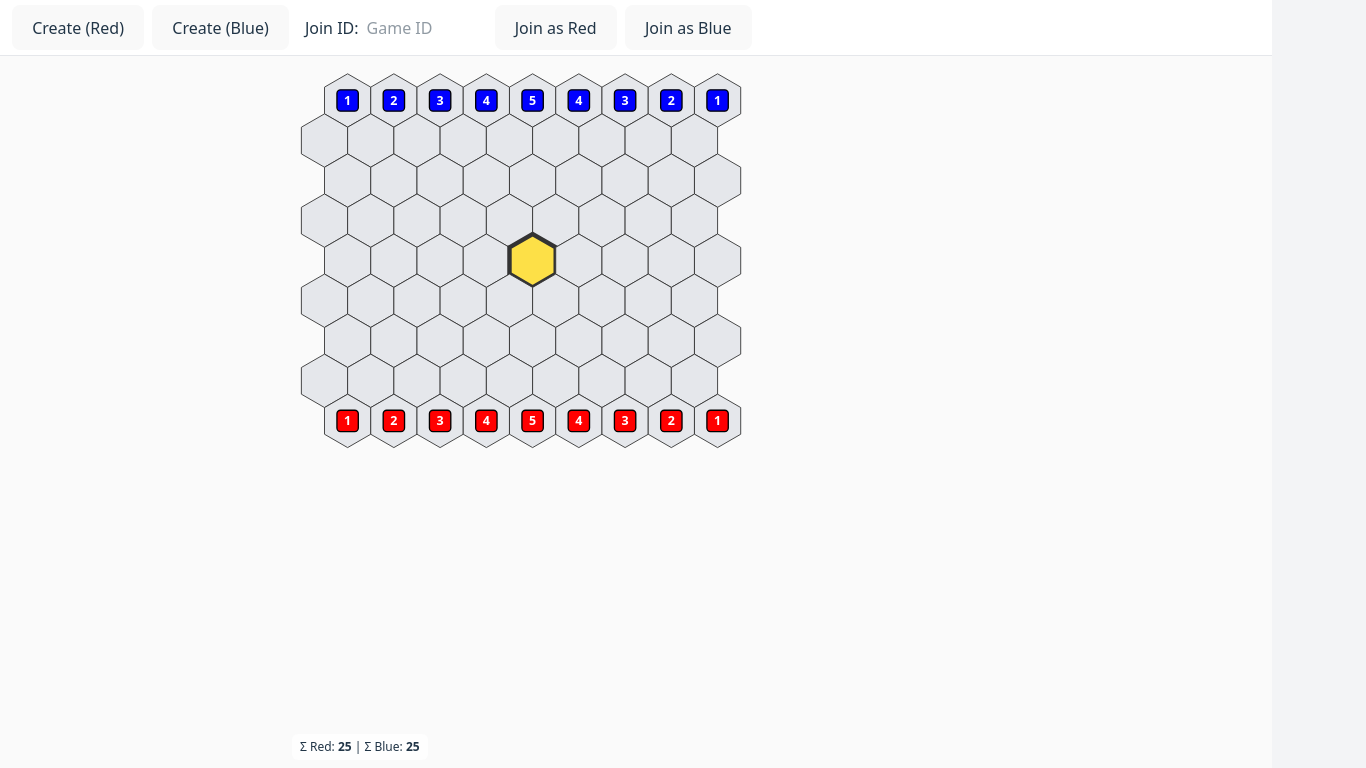
Test: LeftPanelAbsorb visibility (online) › захисник БАЧИТЬ панель розподілу (slot === absorb.defender)
The width and height of the screenshot is (1366, 768).
"Стати" BLUE (він же defender у нашій симуляції)
What coordinates should you click on to do the following:
click the button "Create (Blue)"
I would click on:
 (221, 28)
Its box is [152,5,289,50].
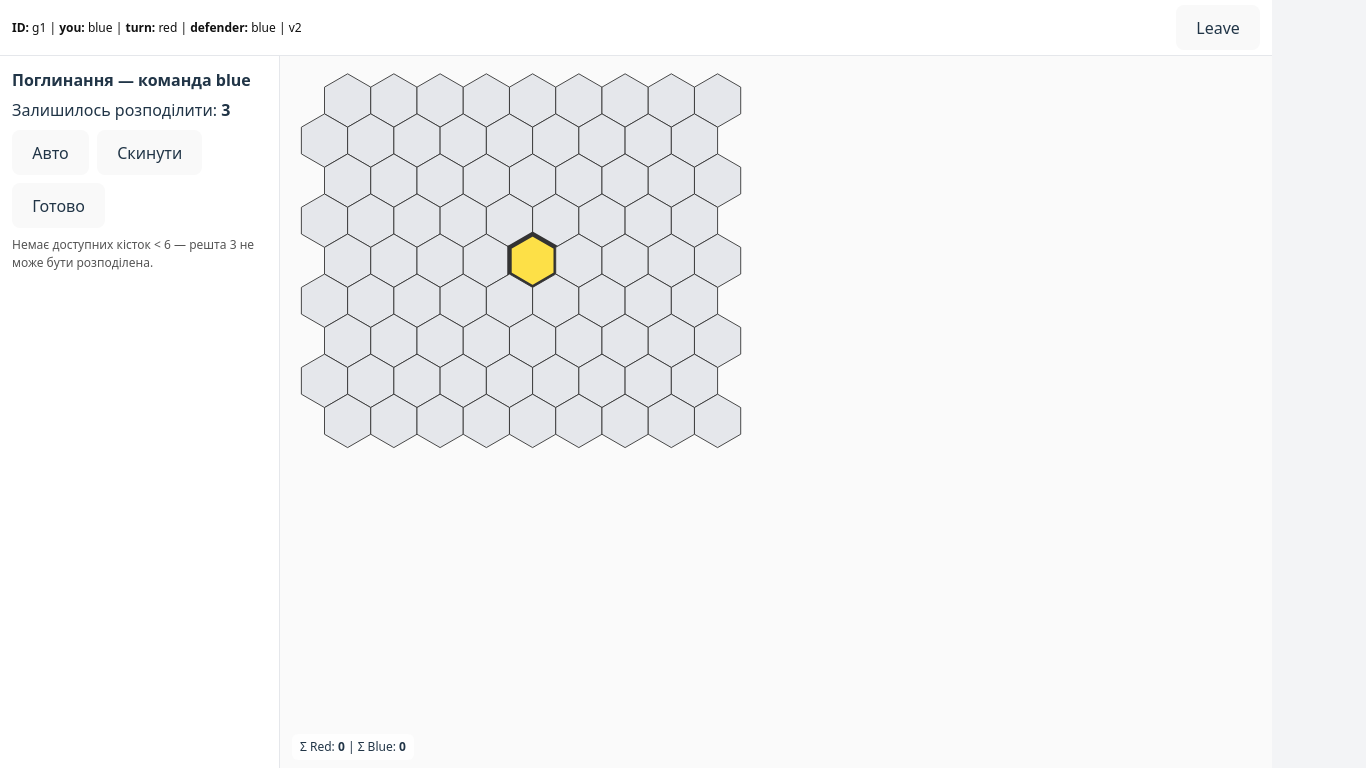
Expected: the text "Поглинання — команда blue" is shown, [12,68,267,92]
